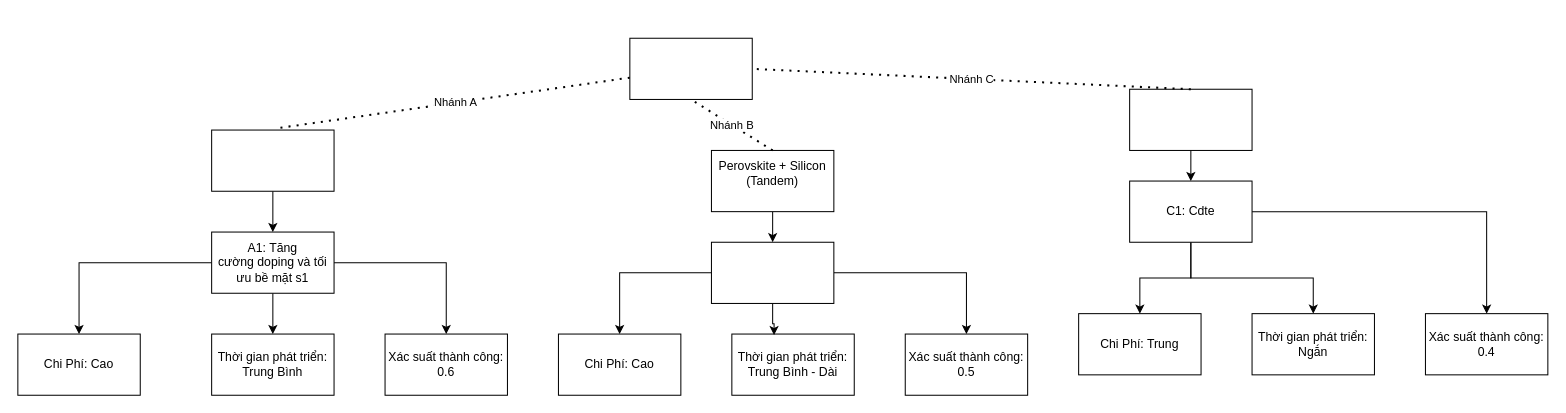
Image size: 1566x413. Some labels were removed from this diagram. The shapes that lost their labels are listed below. From the top down, each one's box as (x1, y1, x2, y2) in pixels, then its label:
(629, 37, 752, 99): Ph á t tri ể n pin NLMT > 22% trong v ò ng 2 n ă m
(1129, 88, 1252, 150): Thin-Film (Màng mỏng)
(211, 129, 334, 191): Công nghệ SIlicon
(710, 241, 834, 303): B1: Cấu trúc Tadem 2 lớp
